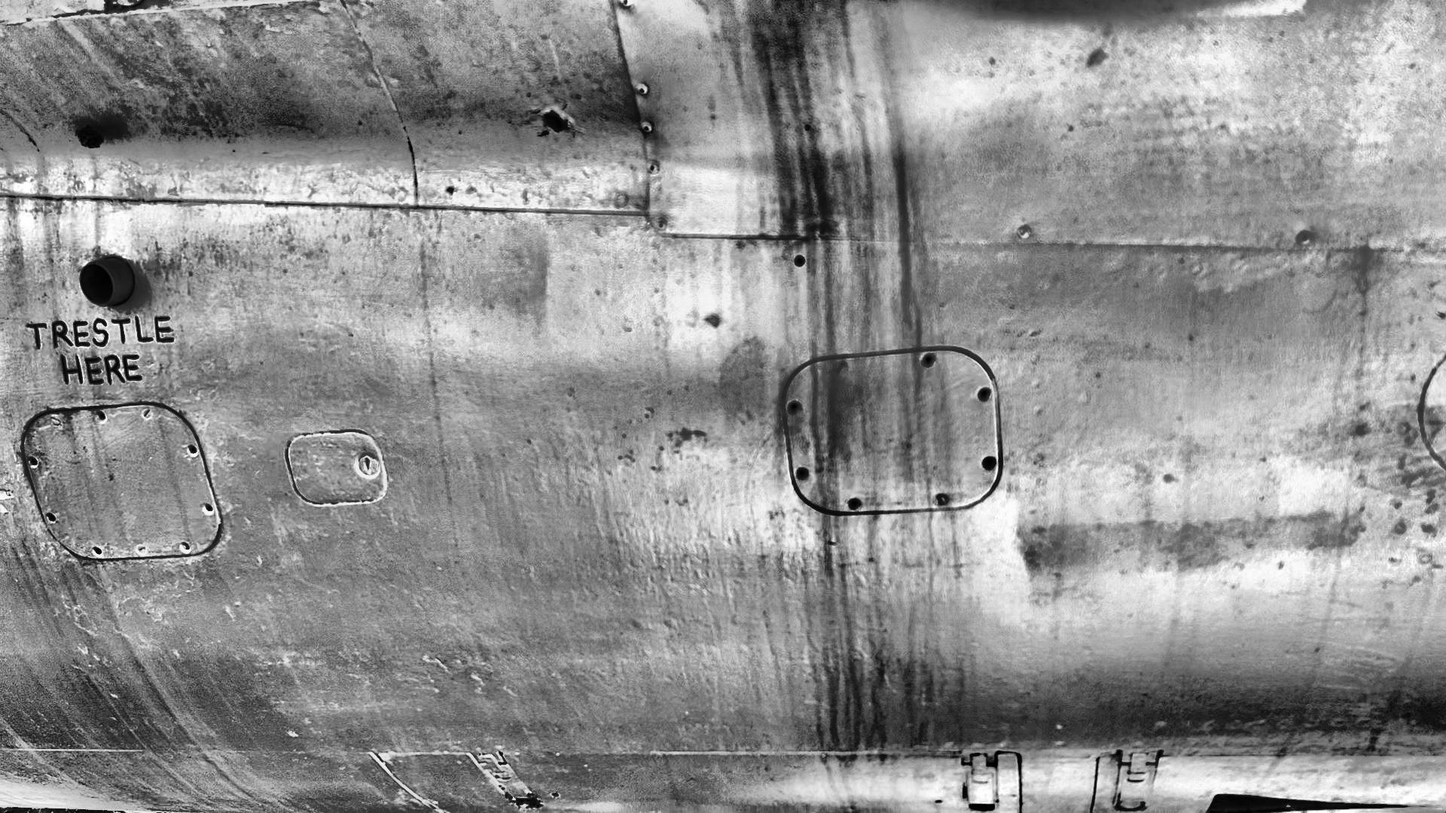crack: (55, 2, 145, 19)
missing-head: (921, 353, 936, 368), (981, 456, 994, 470), (978, 388, 991, 402), (91, 545, 105, 557), (786, 401, 800, 413), (27, 457, 40, 469), (797, 468, 809, 480), (97, 411, 108, 424), (204, 503, 215, 515), (849, 499, 862, 509), (46, 513, 57, 524), (187, 445, 197, 456)
paint-peel-off: (516, 791, 544, 811)
